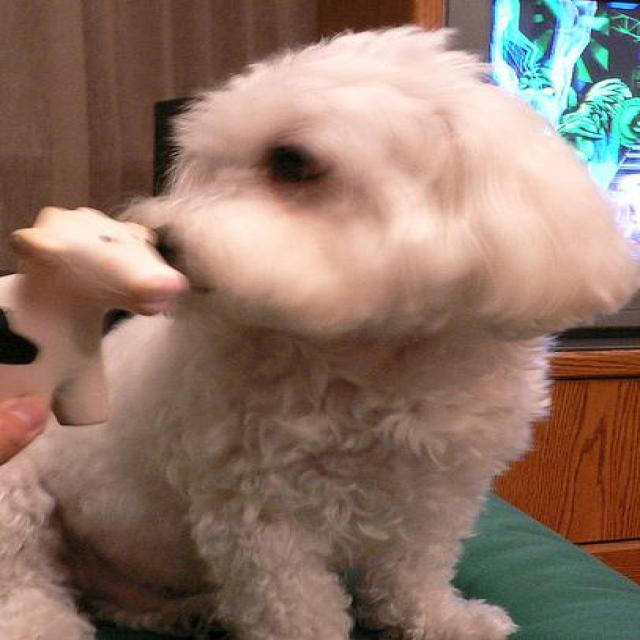maltese_dog: (1, 22, 637, 637)
